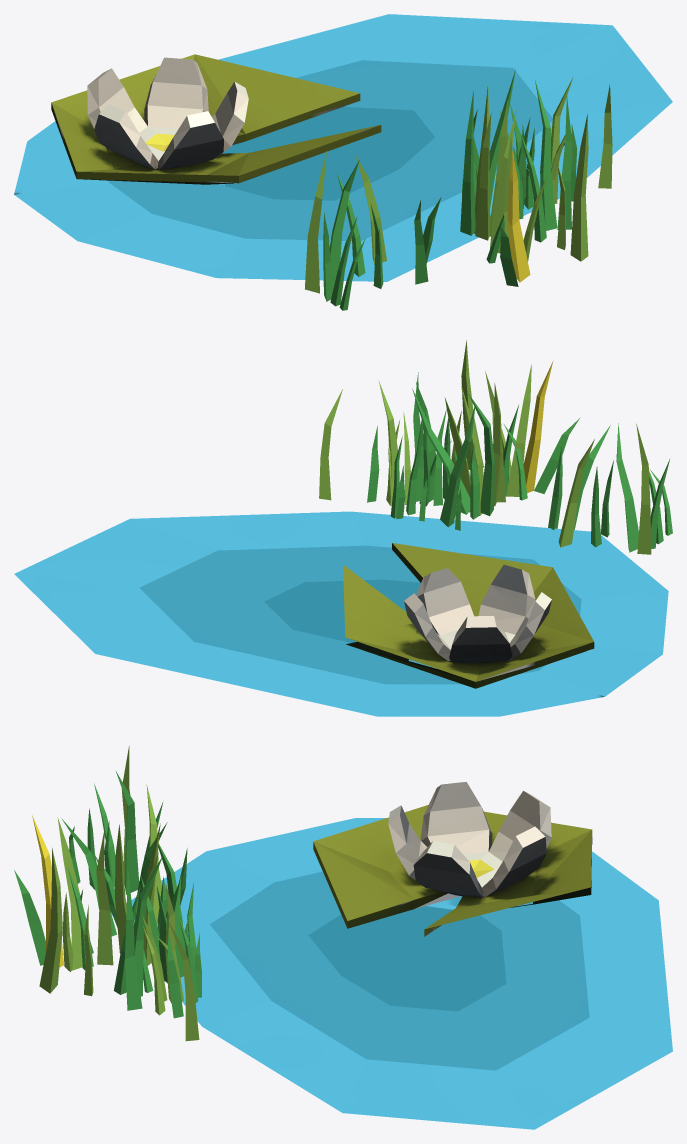
The model's file is pound.fbx.
The picture shows the model from 3 angles, top to bottom: view 1: azimuth 30°, elevation 25°; view 2: azimuth 150°, elevation 25°; view 3: azimuth 270°, elevation 25°; orthographic projection. The views are drawn at different scales.
Visible parts, largest first — view 1: pond, group1744197509, group1681983211, group1325005311, group1697339476, group1936780681, group945836210, group1471392496, group678362861, group176000742, group2009401889, group443349435 (+13 smaller); view 2: pond, group1681983211, group1325005311, group1936780681, group2019195407, group343340000, group1471392496, group443349435, group277299665, group176000742, group945836210, group1744197509 (+7 smaller); view 3: pond, group1744197509, group2009401889, group678362861, group343340000, group1471392496, group1697339476, group176000742, group945836210, group1681983211, group680255540, group1336776763 (+3 smaller).
Boxes of the visible parts, left/top/right/bottom form: pond: left=14, top=14, right=672, bottom=281; group1744197509: left=570, top=114, right=588, bottom=261; group1681983211: left=507, top=150, right=530, bottom=282; group1325005311: left=460, top=90, right=475, bottom=235; group1697339476: left=535, top=80, right=557, bottom=230; group1936780681: left=305, top=150, right=326, bottom=293; group945836210: left=475, top=113, right=491, bottom=240; group1471392496: left=329, top=159, right=359, bottom=285; group678362861: left=557, top=95, right=572, bottom=229; group176000742: left=598, top=84, right=612, bottom=188; group2009401889: left=490, top=110, right=516, bottom=253; group443349435: left=355, top=154, right=386, bottom=264; pond: left=14, top=511, right=668, bottom=716; group1681983211: left=523, top=361, right=553, bottom=492; group1325005311: left=468, top=393, right=494, bottom=516; group1936780681: left=636, top=424, right=651, bottom=554; group2019195407: left=440, top=407, right=474, bottom=527; group343340000: left=506, top=364, right=531, bottom=496; group1471392496: left=616, top=423, right=638, bottom=552; group443349435: left=558, top=439, right=594, bottom=547; group277299665: left=412, top=388, right=470, bottom=514; group176000742: left=319, top=389, right=342, bottom=500; group945836210: left=493, top=383, right=501, bottom=506; group1744197509: left=461, top=340, right=483, bottom=469; pond: left=111, top=781, right=672, bottom=1129; group1744197509: left=39, top=848, right=62, bottom=993; group2009401889: left=96, top=829, right=113, bottom=965; group678362861: left=125, top=870, right=142, bottom=1010; group343340000: left=57, top=817, right=82, bottom=970; group1471392496: left=115, top=770, right=139, bottom=894; group1697339476: left=134, top=855, right=163, bottom=996; group176000742: left=168, top=920, right=199, bottom=1041; group945836210: left=115, top=824, right=126, bottom=953; group1681983211: left=32, top=815, right=64, bottom=967; group680255540: left=14, top=870, right=45, bottom=965; group1336776763: left=167, top=932, right=183, bottom=1018.
Bounding box in the file's own units: 1534 × 416 × 1717.
